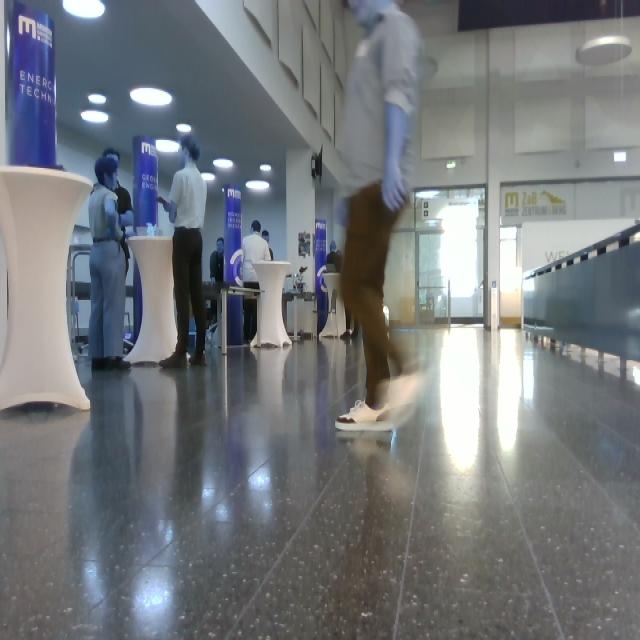door: (499, 225, 523, 328)
light bulb: (575, 1, 633, 66), (576, 35, 632, 67), (130, 86, 173, 108), (62, 1, 106, 20), (81, 110, 109, 124), (156, 138, 181, 153), (246, 180, 270, 190), (213, 158, 234, 169), (88, 93, 107, 105), (176, 124, 192, 133), (201, 173, 216, 181), (260, 164, 272, 172)
person: (335, 1, 425, 433), (156, 134, 208, 369), (88, 154, 133, 372), (242, 220, 272, 344), (210, 237, 225, 326)
staircase: (522, 220, 640, 381)
tiled floor: (1, 323, 639, 639)
window: (414, 185, 487, 325)
